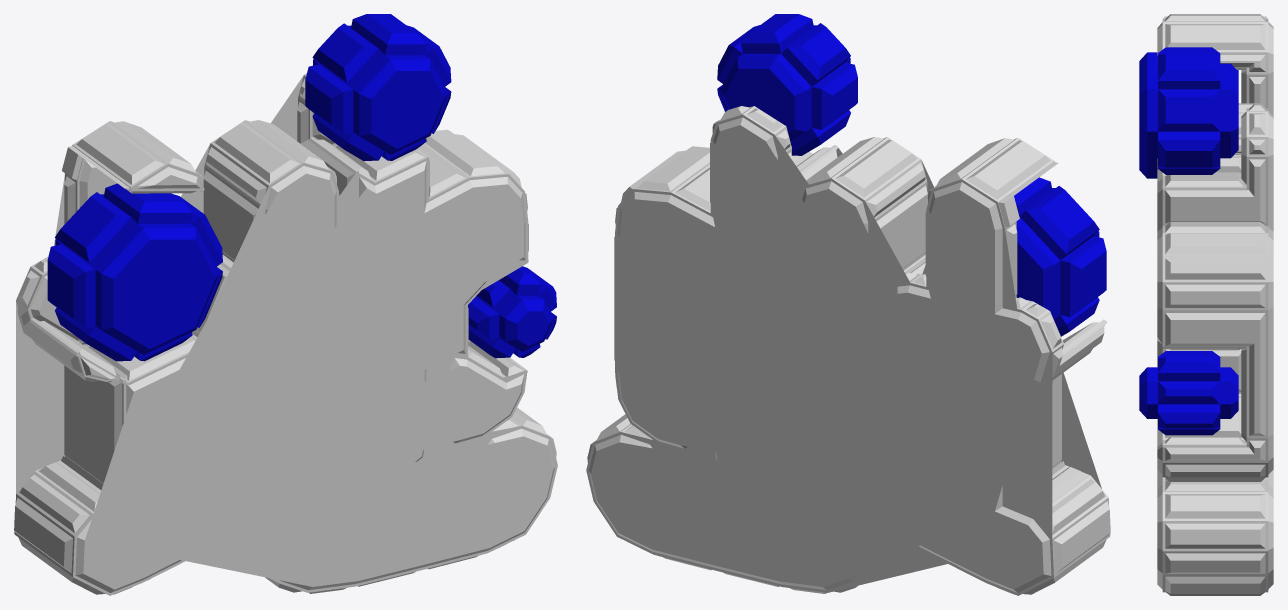
Rendered from Ch_China_地_01.fbx.
3 renders of one model, left to right at view 1: azimuth 30°, elevation 25°; view 2: azimuth 150°, elevation 25°; view 3: azimuth 270°, elevation 25°, orthographic. The views are drawn at different scales.
Visible parts, largest first — view 1: sphere1; view 2: sphere1; view 3: sphere1.
Boxes of the visible parts, x1,y1,x2,y2 form: sphere1: (14,14,557,595); sphere1: (586,14,1110,595); sphere1: (1139,14,1273,595).
Bounding box in the file's own units: 0.9716 × 1.03 × 0.2541.
